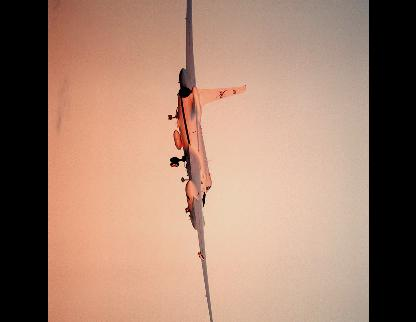Tu160: (167, 0, 248, 319)
